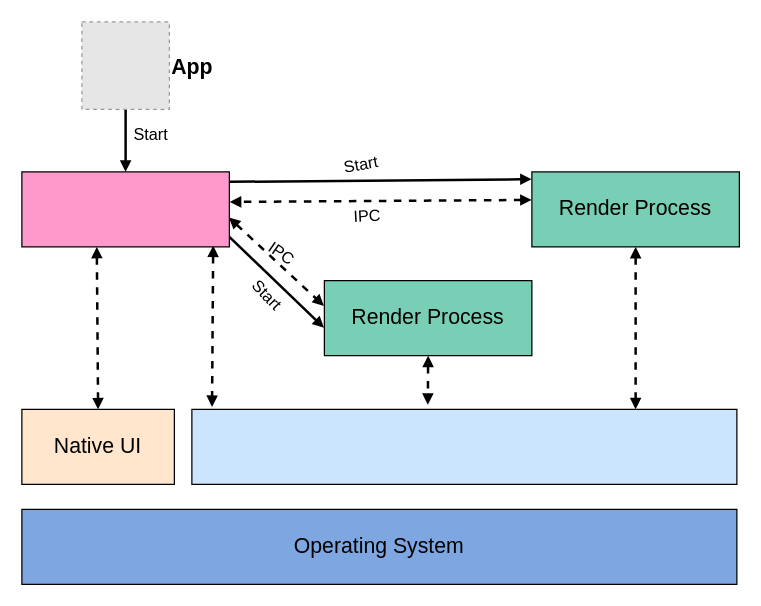
Image size: 761x606. Some labels were removed from this diagram. Grey dashed boxes stand in for pictures. The shapes that lost their labels are listed below. From the top down, each one's box as (x1, y1, x2, y2) in pixels, then its label:
(21, 171, 229, 247): Main process
(191, 408, 737, 484): Node.js
